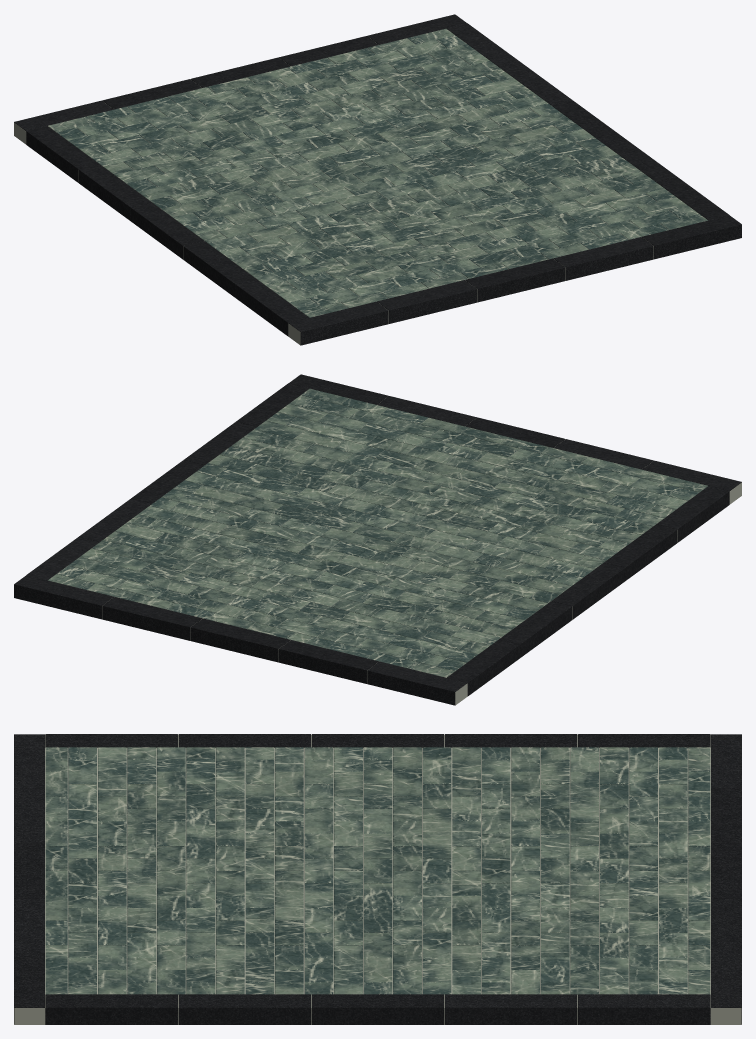
The model's file is floor-green-large.glb.
3 views of the same model, one above another, from view 1: azimuth 30°, elevation 25°; view 2: azimuth 150°, elevation 25°; view 3: azimuth 270°, elevation 25° (orthographic). The views are drawn at different scales.
Visible parts, largest first — view 1: Stone_field_green, Stone_edge_green, Joint_and_bedding_green; view 2: Stone_field_green, Stone_edge_green, Joint_and_bedding_green; view 3: Stone_field_green, Stone_edge_green, Joint_and_bedding_green.
Part boxes in pixels (x1,y1,x2,y2): Stone_field_green: [48, 28, 707, 317]; Stone_edge_green: [14, 14, 741, 345]; Joint_and_bedding_green: [14, 38, 679, 345]; Stone_field_green: [48, 388, 707, 677]; Stone_edge_green: [14, 374, 741, 705]; Joint_and_bedding_green: [76, 398, 741, 705]; Stone_field_green: [45, 747, 710, 994]; Stone_edge_green: [14, 734, 741, 1024]; Joint_and_bedding_green: [14, 734, 741, 1024].
Size of the model in its own units: 3.2 by 0.096 by 3.6.
Materials: 3 (2 with a texture image).
